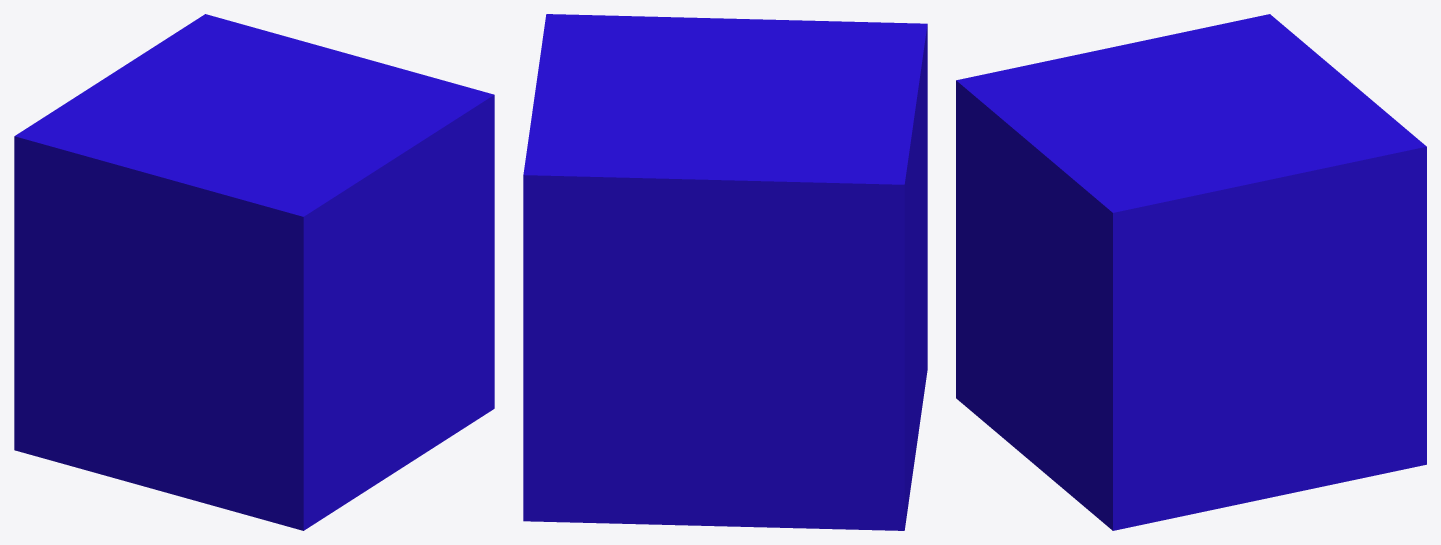
Rendered from meu_cubo_3D.glb.
The picture shows the model from 3 angles, left to right: view 1: azimuth 30°, elevation 25°; view 2: azimuth 150°, elevation 25°; view 3: azimuth 270°, elevation 25°; orthographic projection. The views are drawn at different scales.
Visible parts, largest first — view 1: Cube; view 2: Cube; view 3: Cube.
Boxes of the visible parts, <box> form: Cube: <box>14,14,494,530</box>; Cube: <box>523,14,927,530</box>; Cube: <box>956,14,1426,530</box>.
Size of the model in its own units: 0.2683 by 0.2 by 0.2683.
